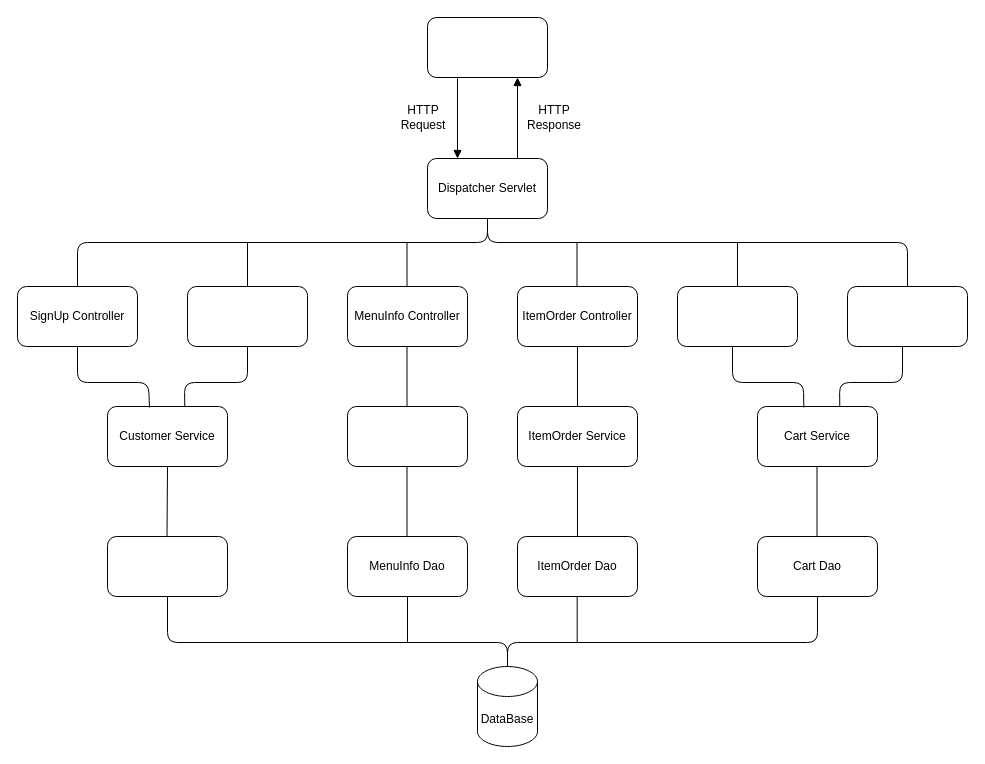
Some shapes in this 985 by 764 pixel diagram are drawn without their labels. The shapes that lost their labels are listed below. From the top down, each one's box as (x1, y1, x2, y2) in pixels, then its label:
(426, 16, 548, 78): Web Browser
(186, 286, 308, 346): SignIn Controller
(676, 286, 798, 346): Cart Controller
(846, 286, 968, 346): Checkout Controller
(346, 406, 468, 466): MenuInfo Service
(106, 536, 228, 596): Customer Dao
